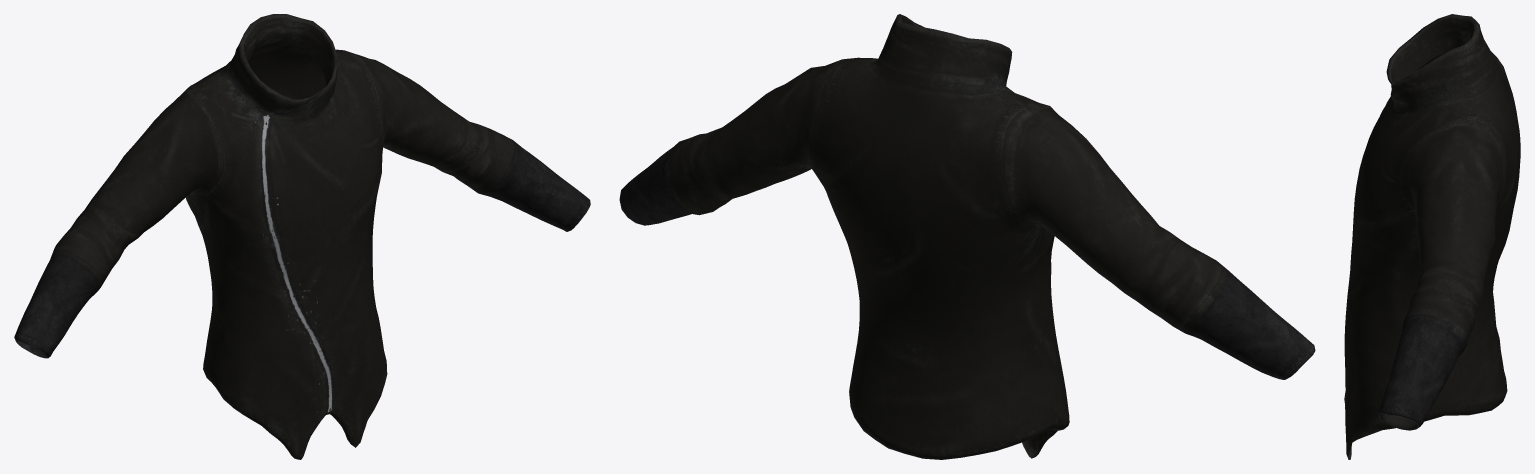
3 views of the same model, side by side, from view 1: azimuth 30°, elevation 25°; view 2: azimuth 150°, elevation 25°; view 3: azimuth 270°, elevation 25° (orthographic). The views are drawn at different scales.
Visible parts, largest first — view 1: jacket_low; view 2: jacket_low; view 3: jacket_low.
Part boxes in pixels (bbox=[...]): jacket_low: bbox=[14, 14, 590, 459]; jacket_low: bbox=[619, 14, 1315, 459]; jacket_low: bbox=[1344, 14, 1520, 459].
Bounding box in the file's own units: 2 × 1.32 × 0.5028.
1 material, 1 textured.
